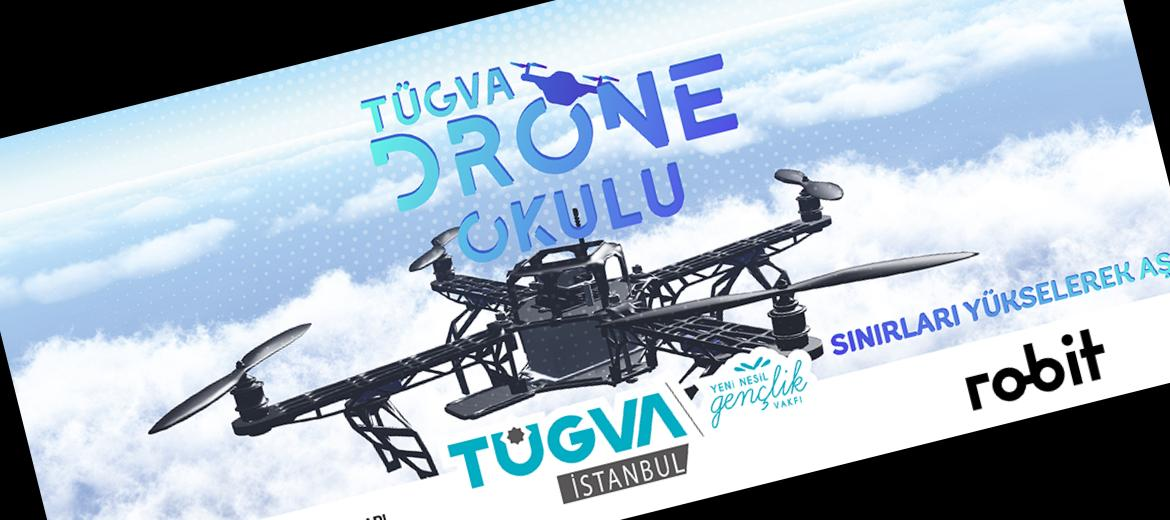drone: (114, 98, 989, 516)
